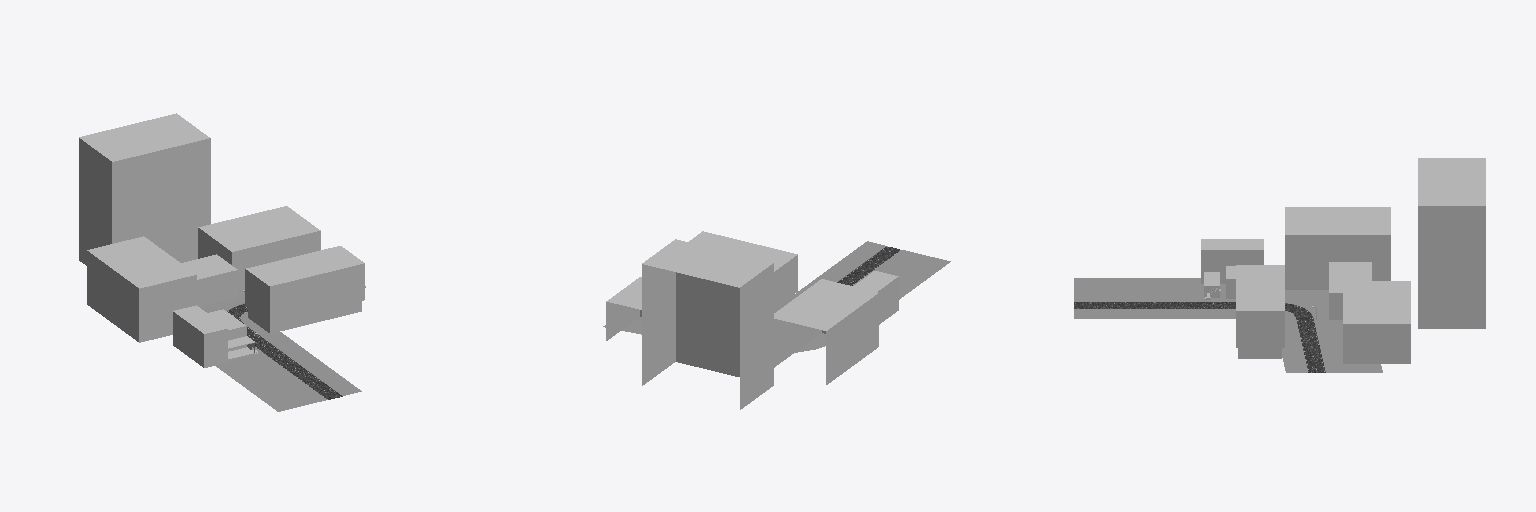
The picture shows the model from 3 angles: view 1: azimuth 30°, elevation 25°; view 2: azimuth 150°, elevation 25°; view 3: azimuth 270°, elevation 25°; orthographic projection.
Visible parts, largest first — view 1: Building_07_Cube.010, Building_05_Cube.008, Building_01_Cube.001, Ground_Plane, Building_06_Cube.009, Building_03_Cube.003, Building_04_Cube.004, Building_02_Cube.002, Club_Cube; view 2: Building_07_Cube.010, Building_05_Cube.008, Ground_Plane, Building_01_Cube.001, Building_06_Cube.009, Building_03_Cube.003; view 3: Building_07_Cube.010, Ground_Plane, Building_05_Cube.008, Building_06_Cube.009, Building_01_Cube.001, Building_03_Cube.003, Building_04_Cube.004.
Boxes of the visible parts, <box> form: Building_07_Cube.010: <box>79,113,210,265</box>; Building_05_Cube.008: <box>87,236,196,342</box>; Building_01_Cube.001: <box>245,246,364,333</box>; Ground_Plane: <box>200,286,365,411</box>; Building_06_Cube.009: <box>198,206,320,290</box>; Building_03_Cube.003: <box>173,305,227,367</box>; Building_04_Cube.004: <box>181,254,237,306</box>; Building_02_Cube.002: <box>208,309,246,340</box>; Club_Cube: <box>228,336,258,360</box>; Building_07_Cube.010: <box>642,239,773,409</box>; Building_05_Cube.008: <box>774,279,878,384</box>; Ground_Plane: <box>603,241,950,352</box>; Building_01_Cube.001: <box>689,231,797,312</box>; Building_06_Cube.009: <box>606,277,641,340</box>; Building_03_Cube.003: <box>854,271,898,324</box>; Building_07_Cube.010: <box>1418,158,1485,328</box>; Ground_Plane: <box>1074,278,1382,372</box>; Building_05_Cube.008: <box>1285,207,1390,289</box>; Building_06_Cube.009: <box>1343,281,1410,363</box>; Building_01_Cube.001: <box>1236,265,1284,358</box>; Building_03_Cube.003: <box>1201,239,1263,283</box>; Building_04_Cube.004: <box>1329,262,1371,319</box>.
Size of the model in its own units: 331 by 171 by 518.
Materials: 4 (2 with a texture image).